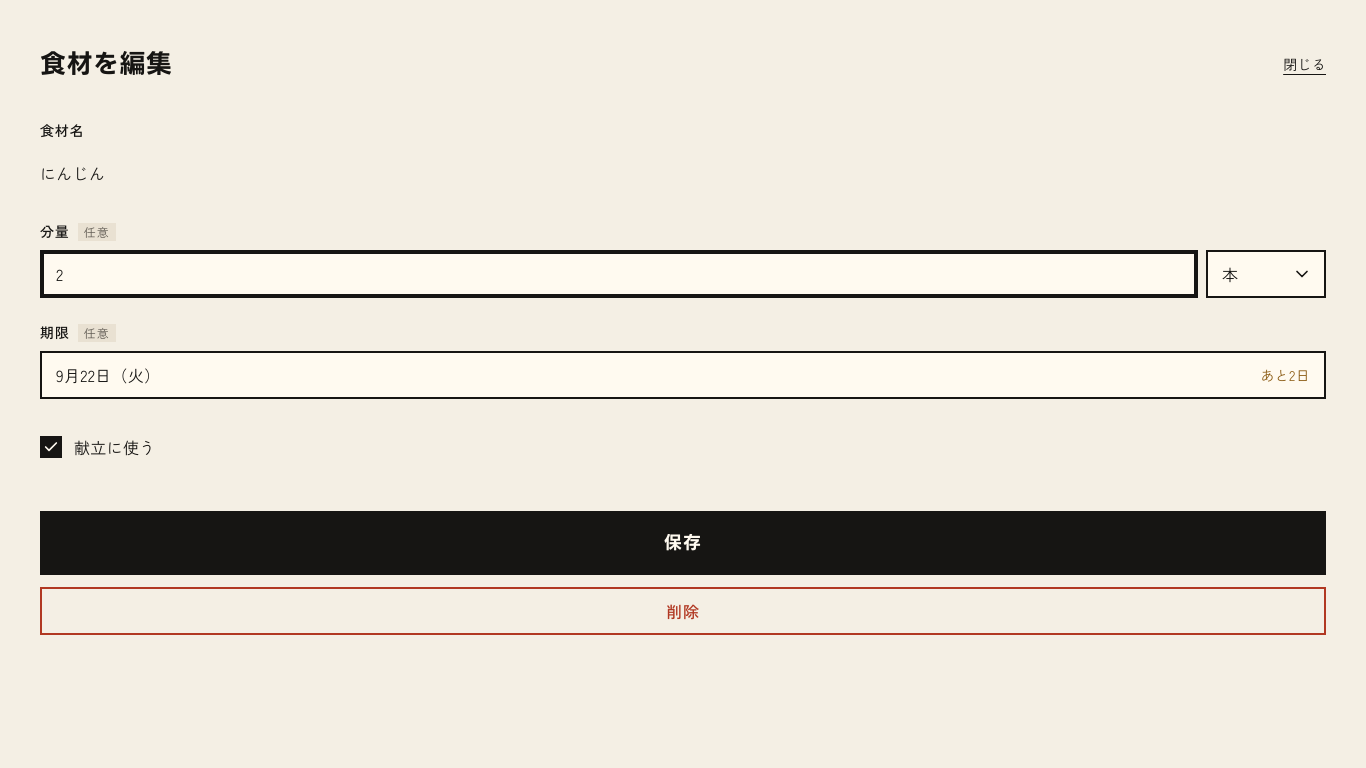
Test case: 編集の画面 StockItemEditForm の見た目と文言 › 期限の欄を変えると、残日数は変えた後の値で数え直される
Type "2026-09-24" into the date field labelled "期限 任意 9月22日（火） あと2日" at x=683, y=360, box [40,322,1326,399]
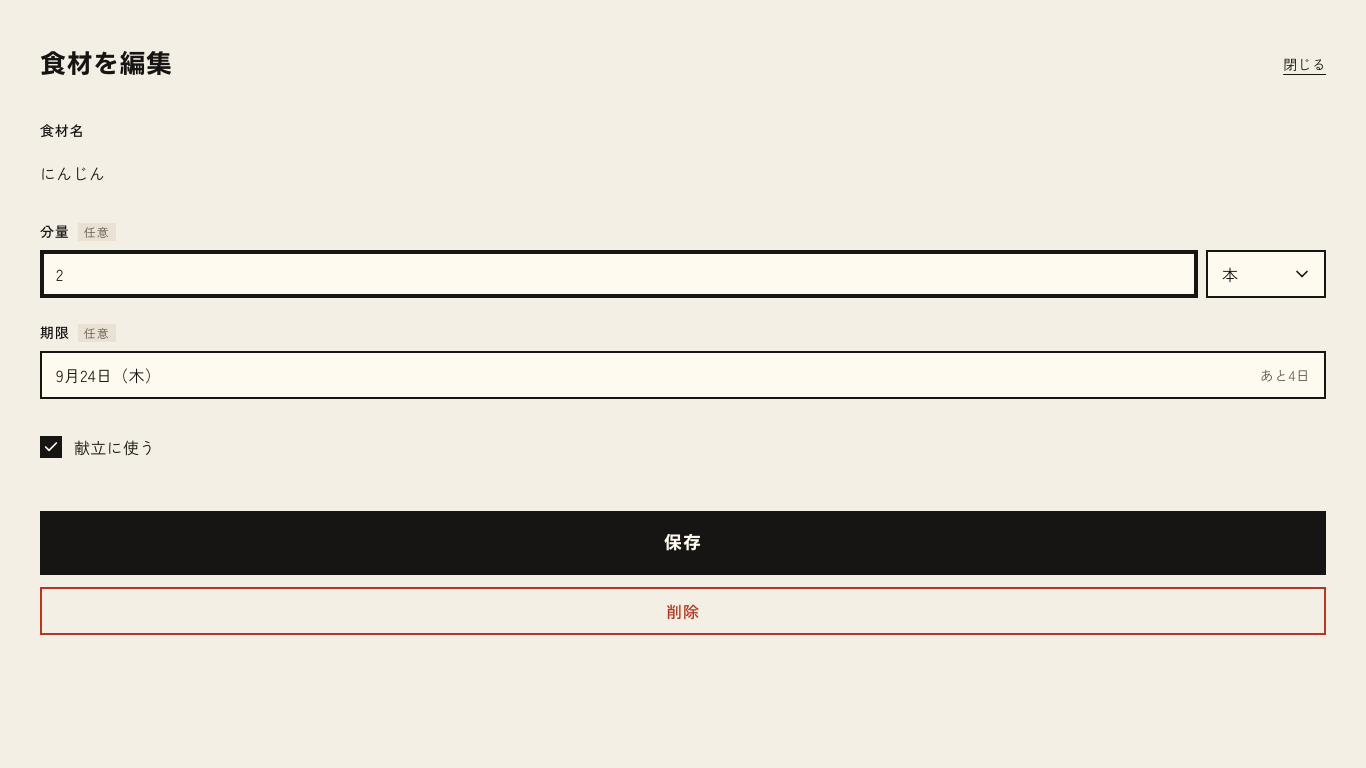
expect the text "あと4日" is shown: met, box [1260,363,1310,387]
expect the text "あと2日" is gone: met
